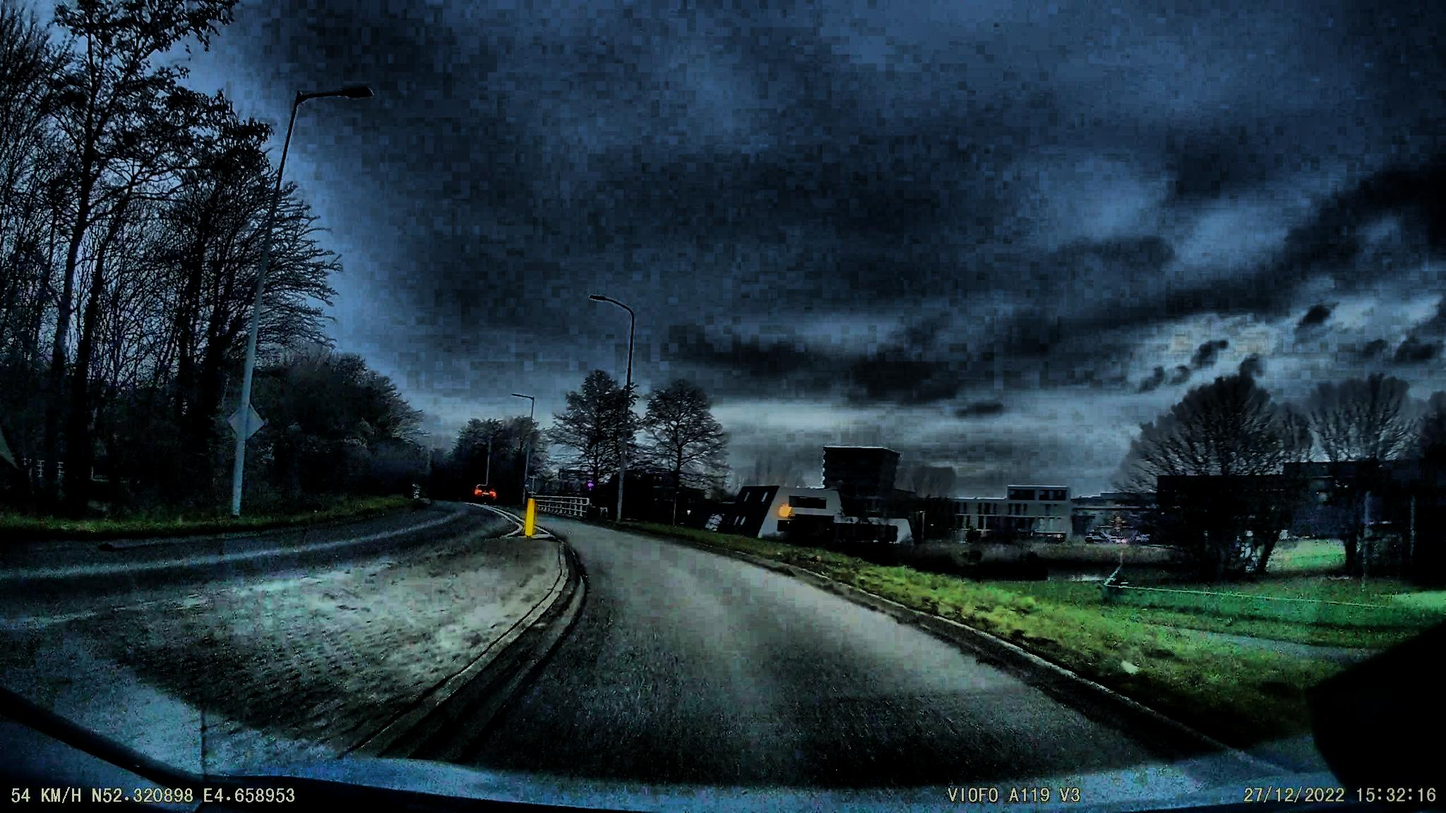Roads: (430, 520, 1318, 813)
